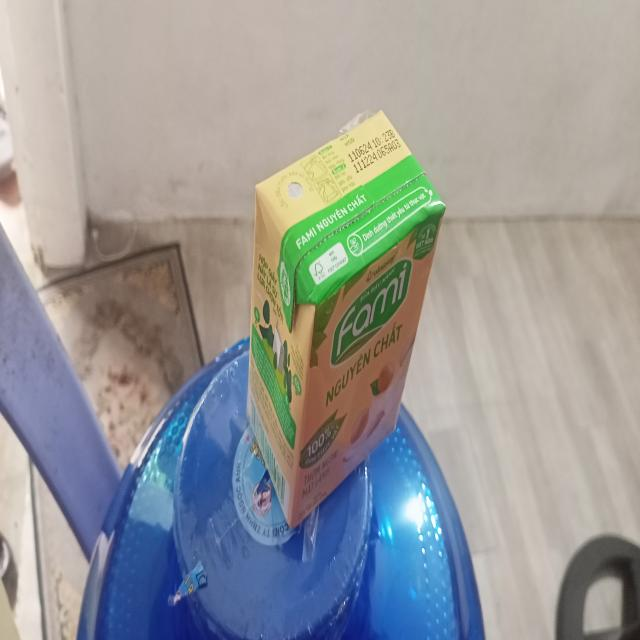Fami: (246, 100, 446, 533)
